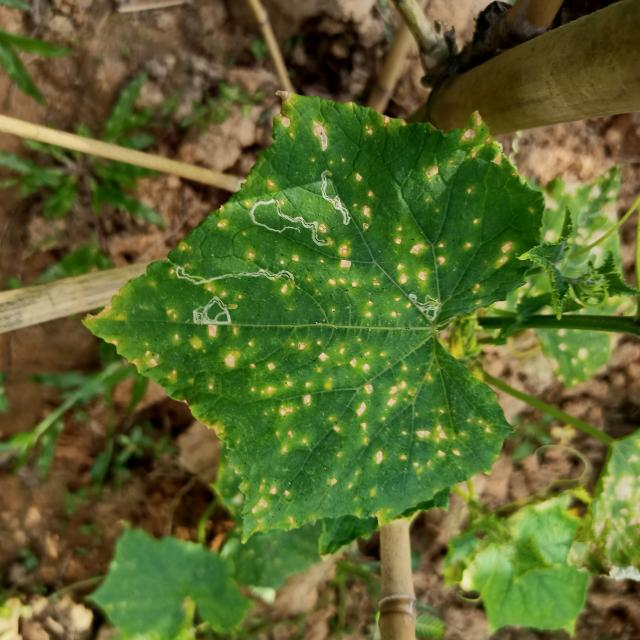disease_cucumber: (127, 322, 490, 507), (389, 216, 486, 295), (330, 238, 410, 320), (414, 119, 510, 180), (272, 96, 335, 156), (350, 168, 376, 222), (488, 229, 516, 273), (204, 284, 244, 299), (277, 252, 302, 266)
